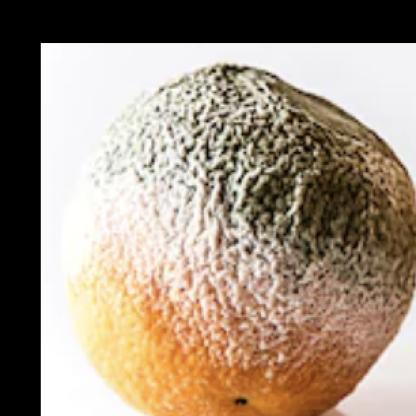rotten: (65, 62, 416, 416)
